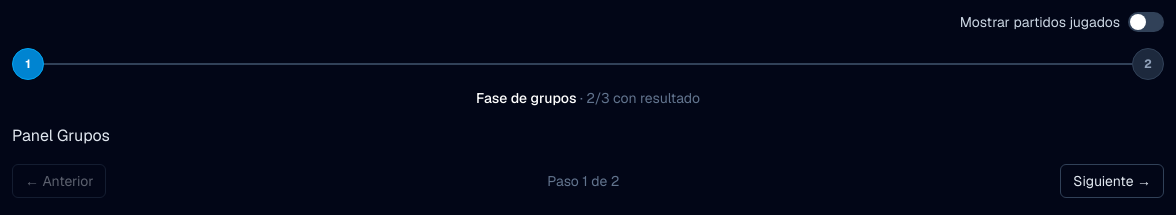
Test: AdminSteps › navega al siguiente paso
Click the button "Siguiente →".
click(1112, 181)  # box [1060,164,1164,198]
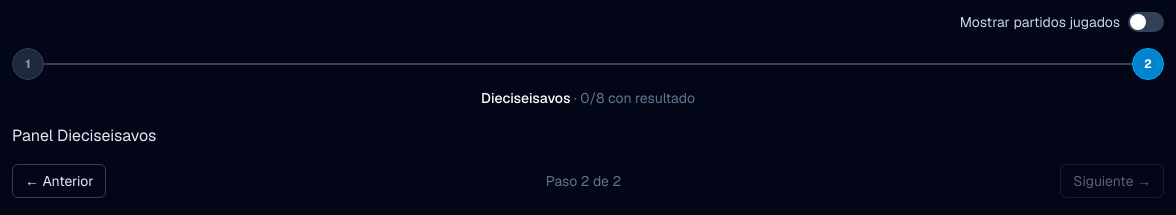
Result: the text "Panel Dieciseisavos" is shown at [12,125,156,146]
Result: the text "Paso 2 de 2" is shown at [546,171,621,191]
